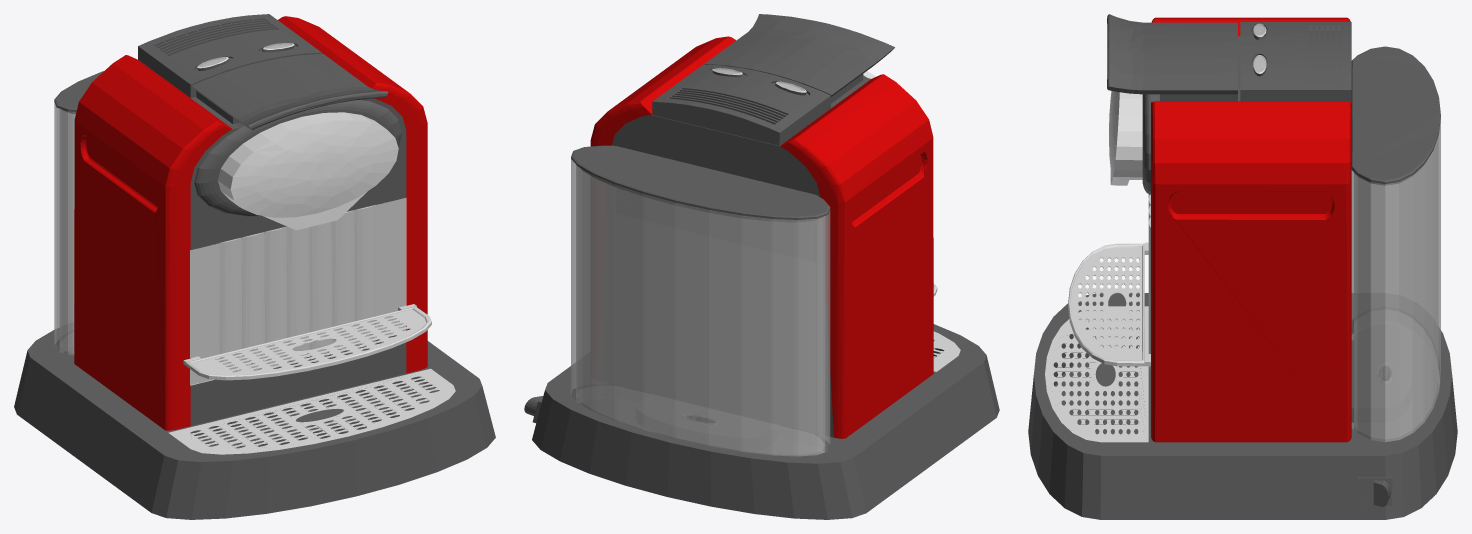
File: sh-bs0-coffee-brewer.glb
3 views of the same model, side by side, from view 1: azimuth 30°, elevation 25°; view 2: azimuth 150°, elevation 25°; view 3: azimuth 270°, elevation 25° (orthographic). The views are drawn at different scales.
Parts seen in each view (by area): view 1: Coffee_Brewer_ID847; view 2: Coffee_Brewer_ID847; view 3: Coffee_Brewer_ID847.
Part boxes in pixels (<box>): Coffee_Brewer_ID847: <box>14,14,495,519</box>; Coffee_Brewer_ID847: <box>524,14,999,519</box>; Coffee_Brewer_ID847: <box>1028,14,1457,519</box>.
Bounding box in the file's own units: 1 × 1 × 1.
